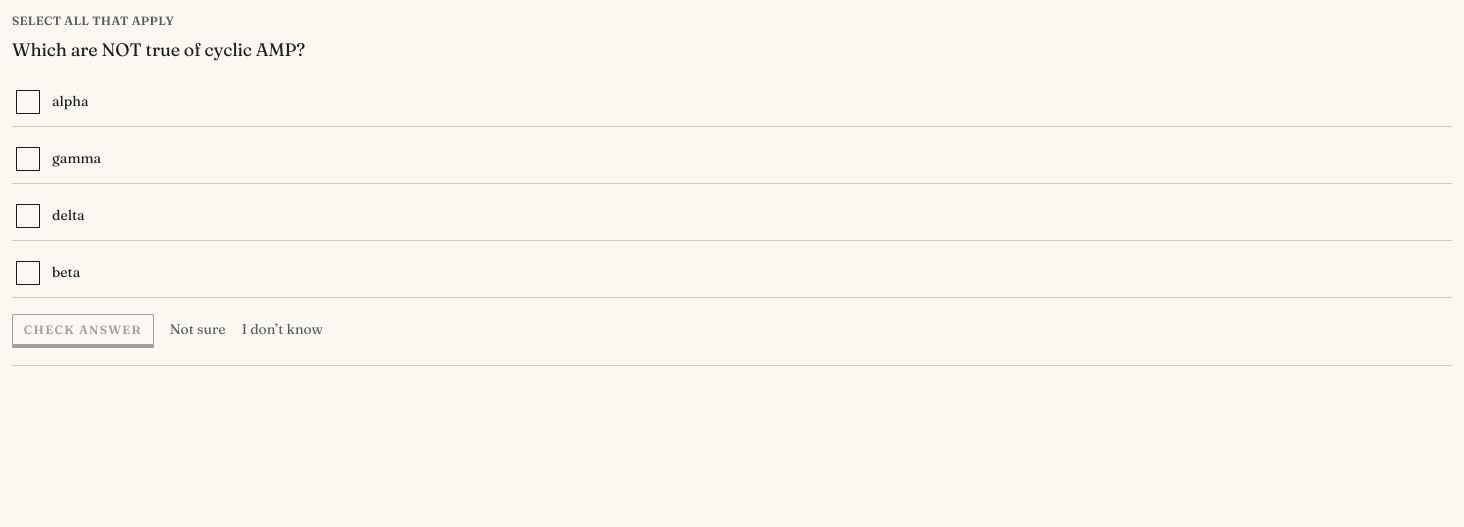
Test: MultiCard › marks a question asked in the negative as "to tick", not "true" (the owner, 2026-11-17)
This screenshot has width=1464, height=527.
Click the checkbox "alpha" at (70,101), box 12,78 -> 1452,127
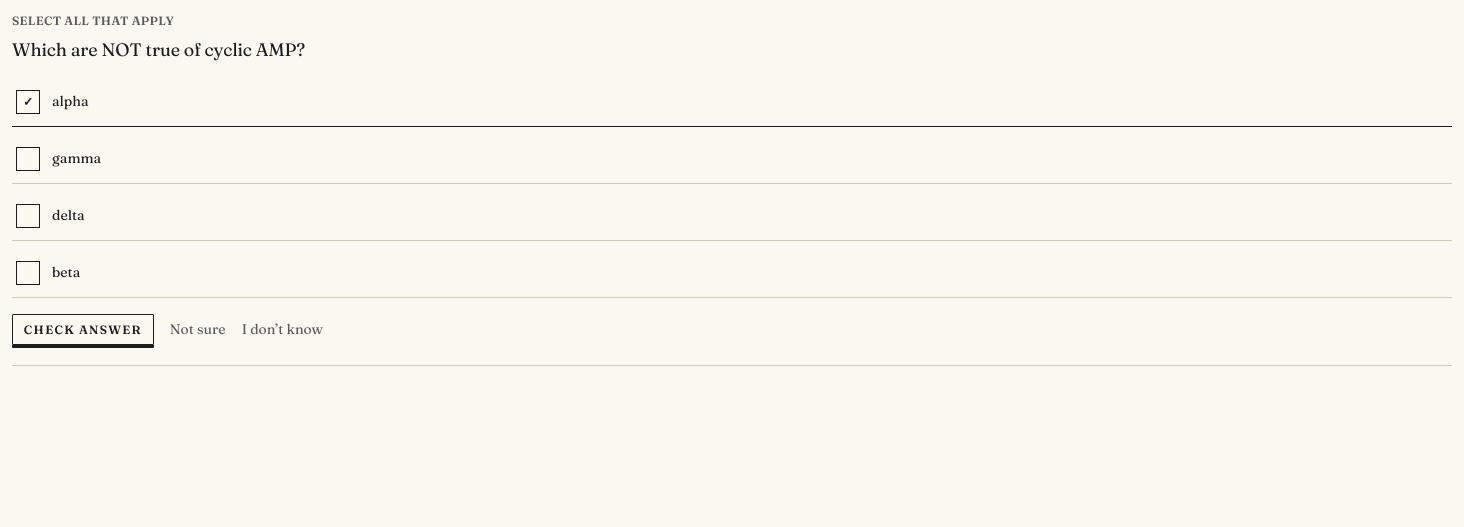
Click the button "Check answer" at (83,330), box 12,314 -> 154,346
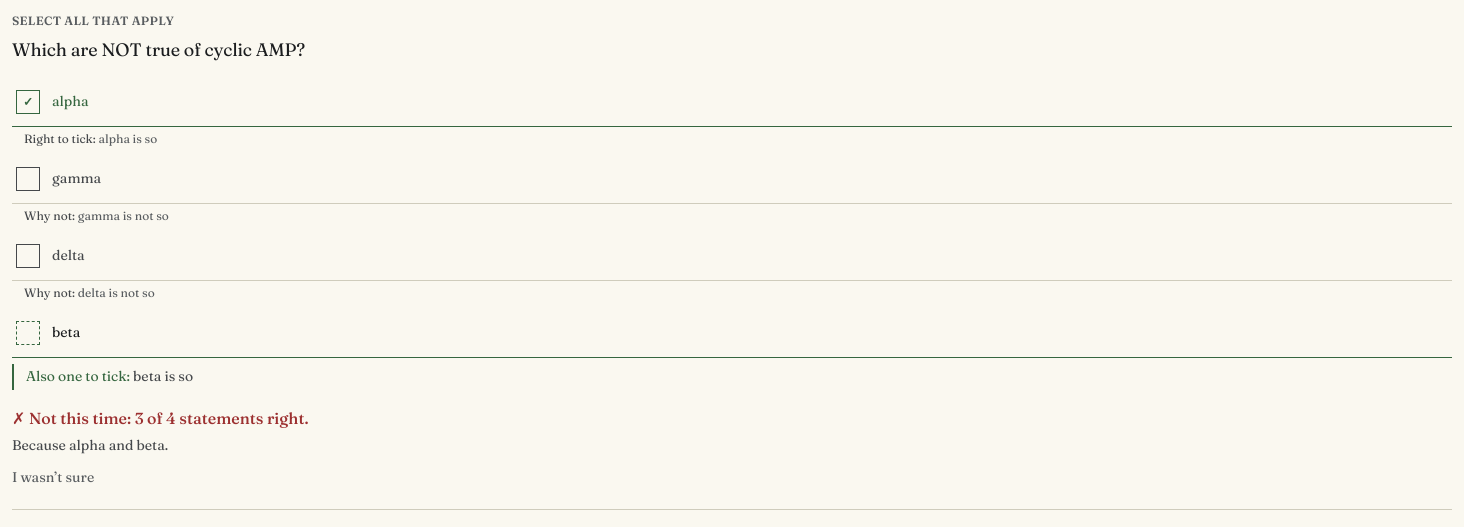
Expected: the checkbox "alpha" is shown, 12,78 -> 1452,127
Expected: the text "Also one to tick:" is shown, 26,367 -> 133,385
